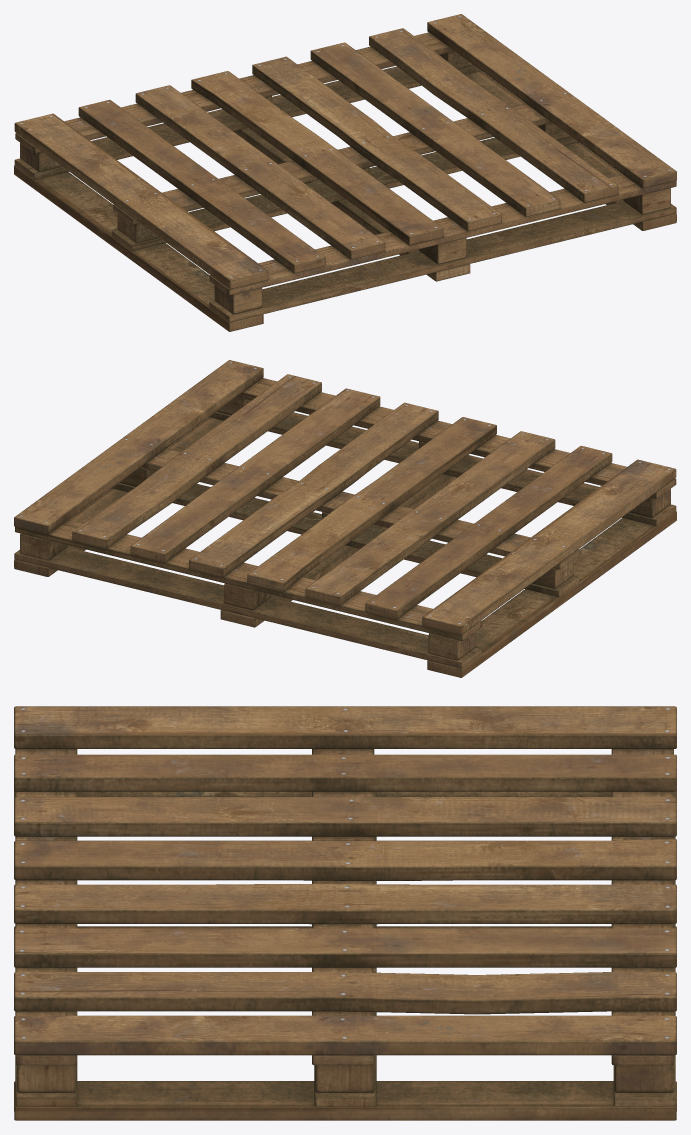
File: Pallet.glb
3 views of the same model, one above another, from view 1: azimuth 30°, elevation 25°; view 2: azimuth 150°, elevation 25°; view 3: azimuth 270°, elevation 25° (orthographic). The views are drawn at different scales.
Visible parts, largest first — view 1: WoodPallet; view 2: WoodPallet; view 3: WoodPallet.
Boxes of the visible parts, x1,y1,x2,y2 form: WoodPallet: (14, 14, 676, 331); WoodPallet: (14, 360, 676, 677); WoodPallet: (14, 706, 676, 1120).
Bounding box in the file's own units: 1.22 × 0.135 × 1.02.
1 material, 1 textured.
